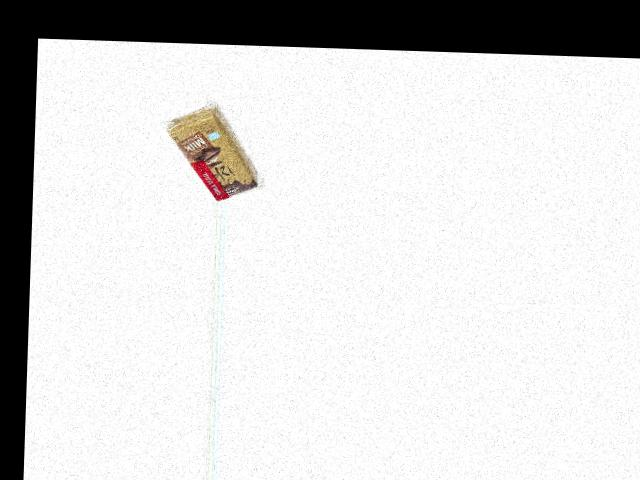chocolate: (153, 102, 262, 200)
